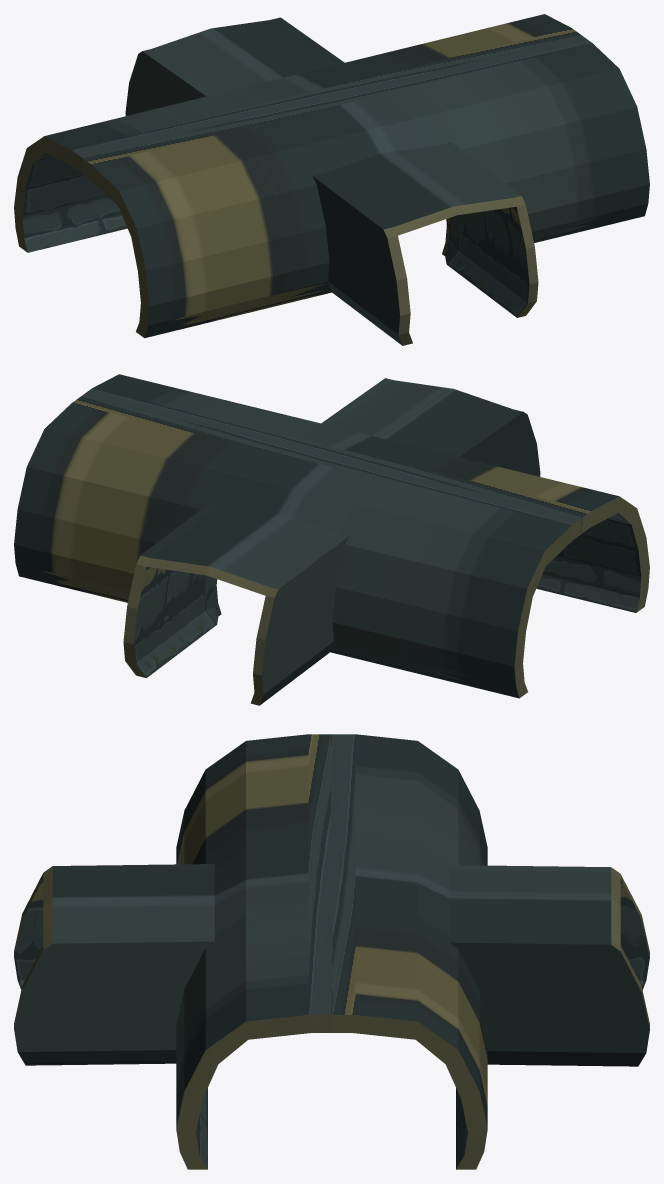
File: hallway.fbx
The picture shows the model from 3 angles, top to bottom: view 1: azimuth 30°, elevation 25°; view 2: azimuth 150°, elevation 25°; view 3: azimuth 270°, elevation 25°; orthographic projection. The views are drawn at different scales.
Visible parts, largest first — view 1: Cube.002; view 2: Cube.002; view 3: Cube.002.
Boxes of the visible parts, x1,y1,x2,y2 form: Cube.002: [14, 14, 649, 345]; Cube.002: [14, 374, 649, 705]; Cube.002: [14, 734, 649, 1169].
Size of the model in its own units: 4080 by 1063 by 3907.
1 material, 1 textured.
